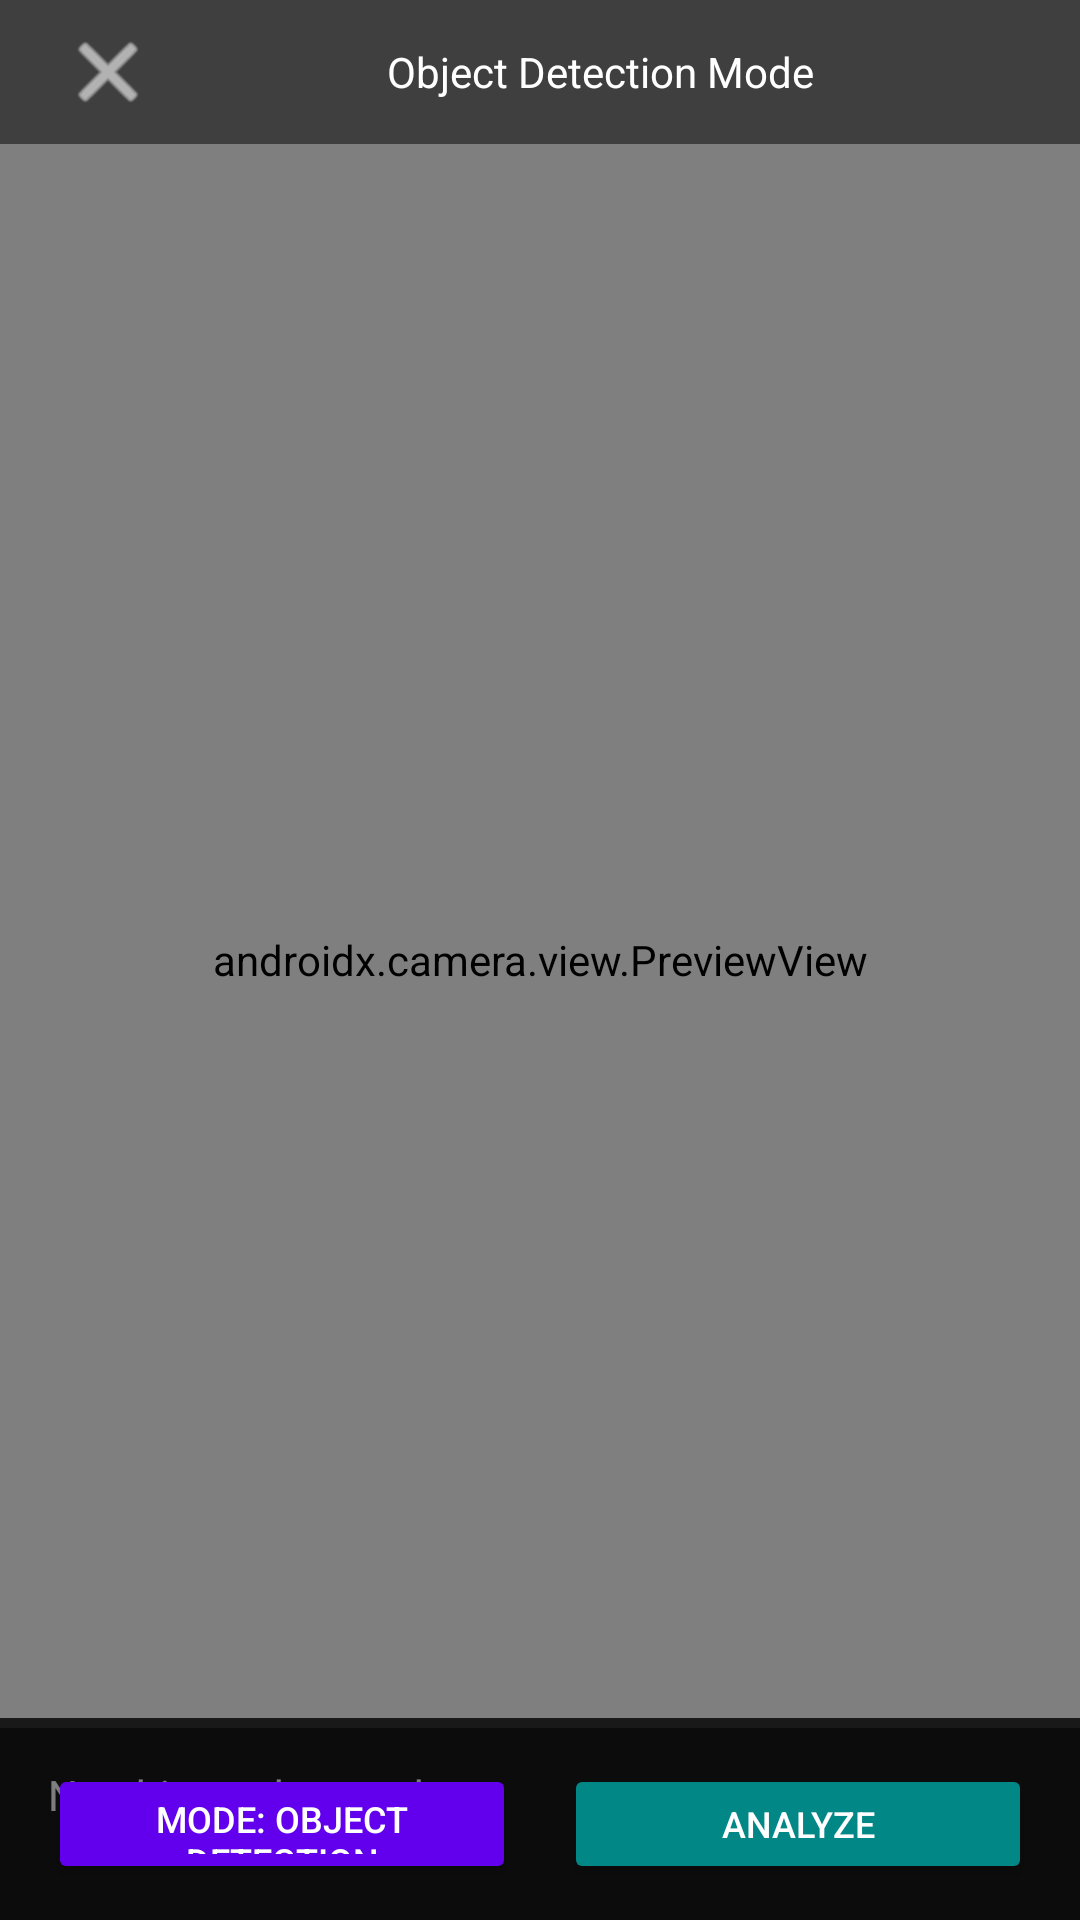

Point at icon controls on the screen. Image size 1080x1920, points as (x,y).
Close camera: (108,72)
